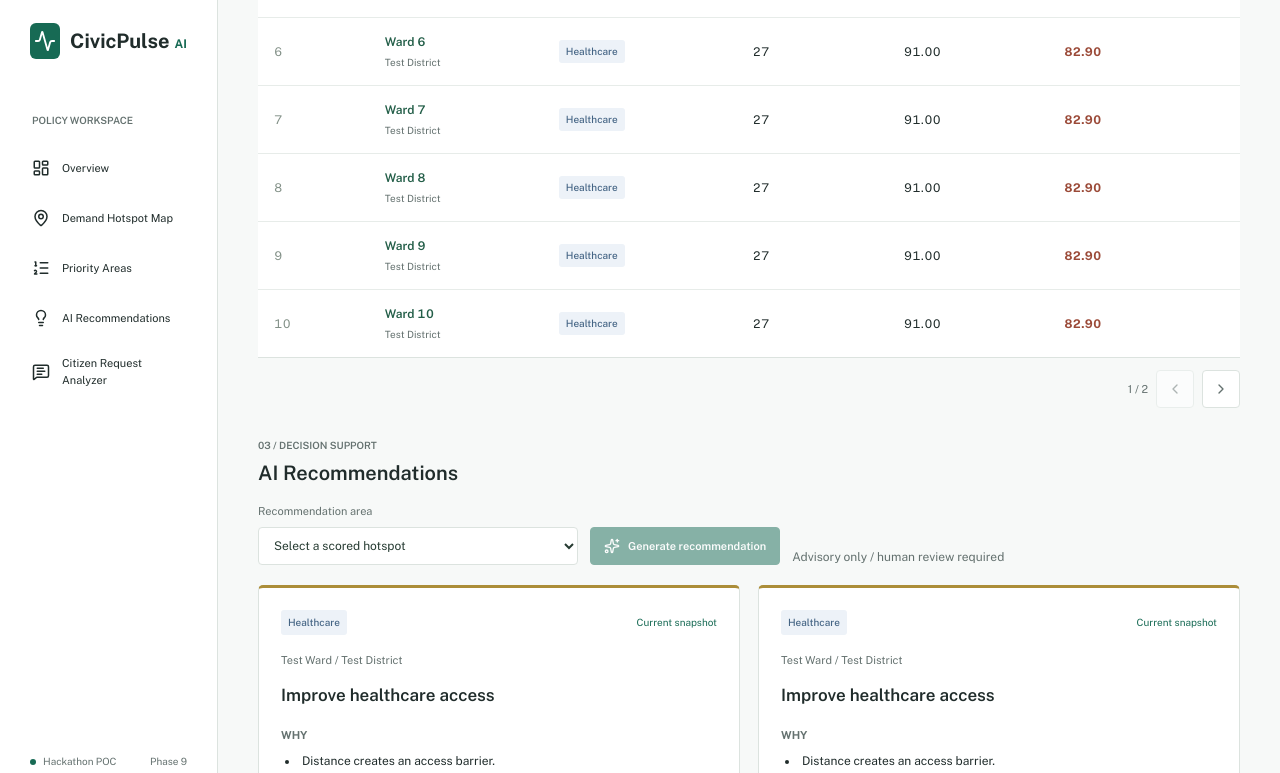
Test: Phase 9 policymaker dashboard › paginates priority rows and expands recommendation history
(page scrolled)
Click the button named "Next page" at (1221, 389), box [1202,370,1240,408]
(page scrolled)
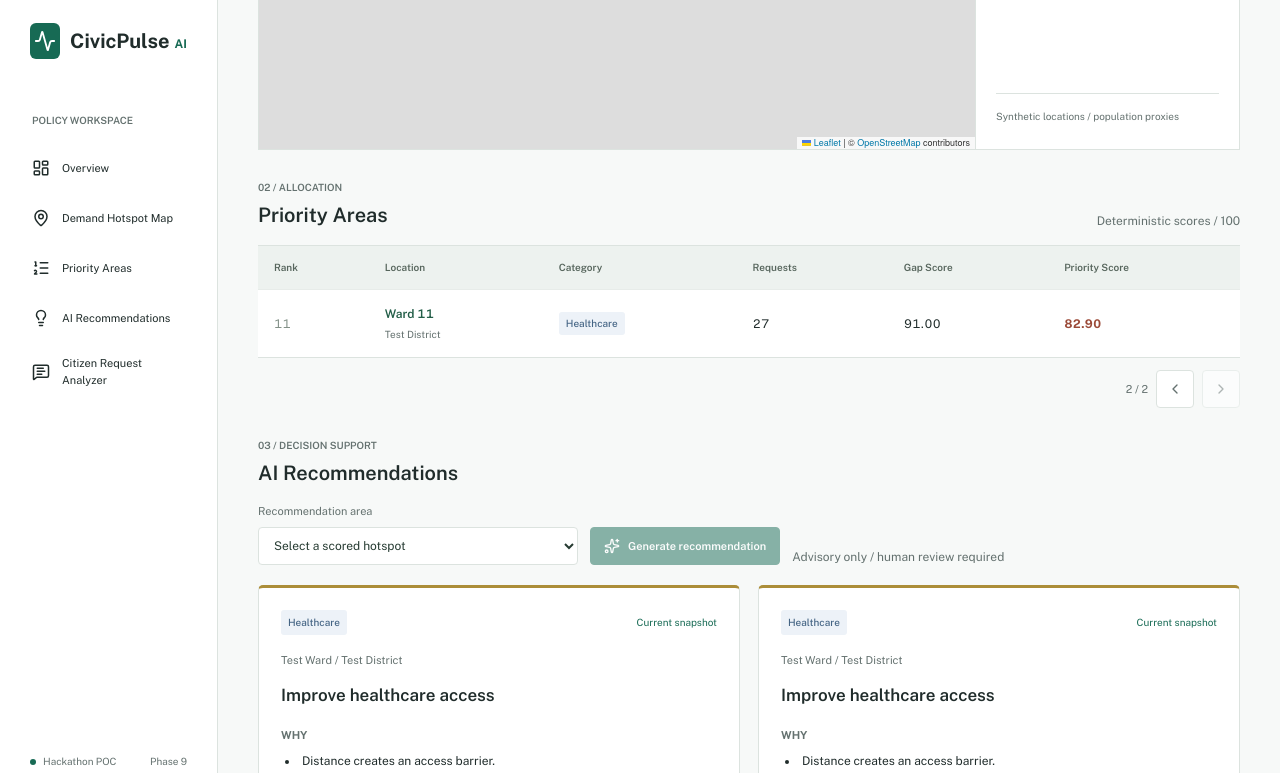
Check: the table shows "Ward 11", box [385,305,434,323]
Click the button named "Previous page" at (1175, 389), box [1156,370,1194,408]
(page scrolled)
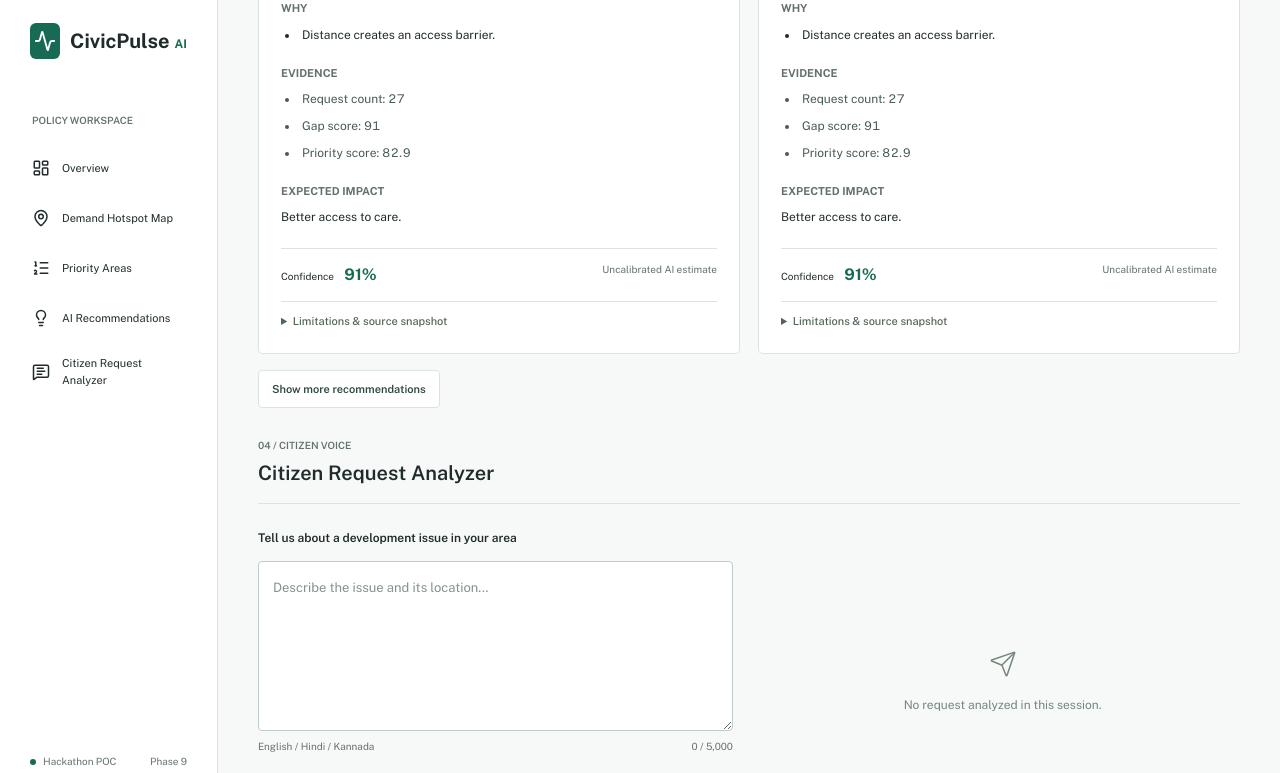
Click the button "Show more recommendations" at (349, 389), box [258,370,440,408]
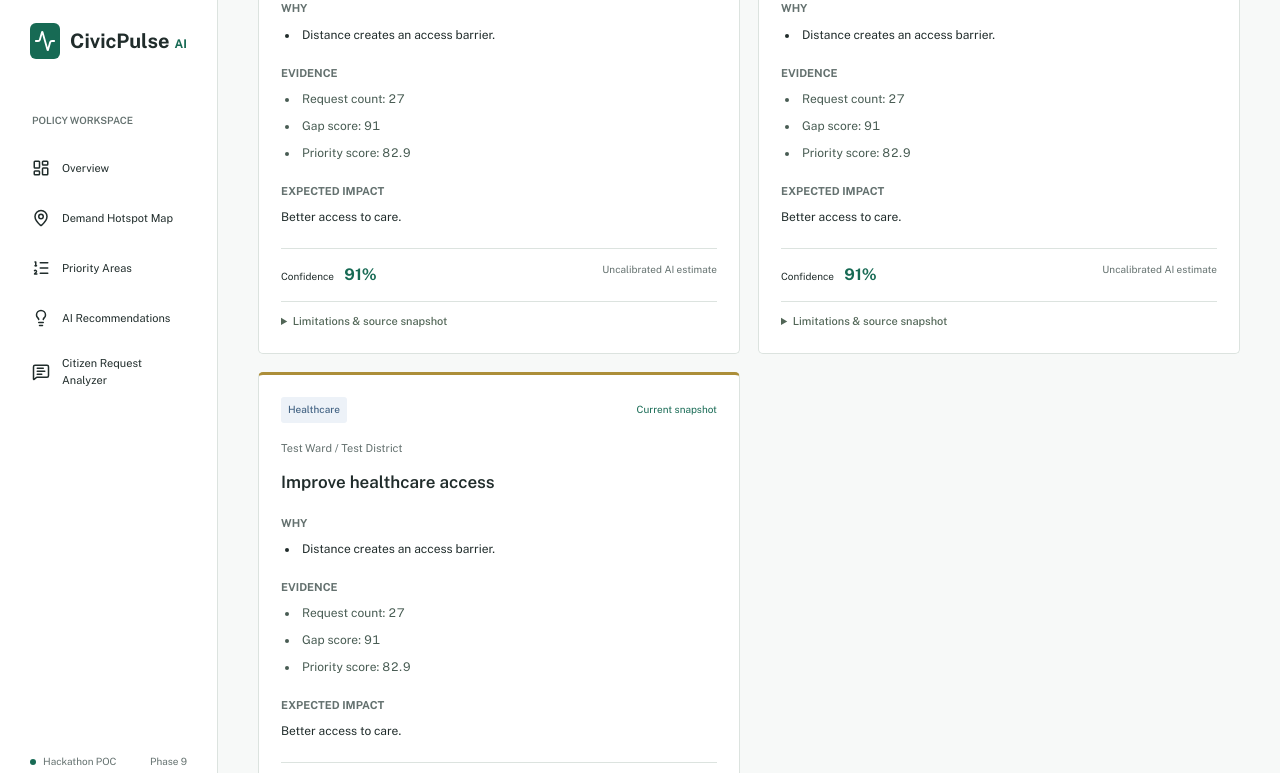
Check: the number of headings "Improve healthcare access" is 5
